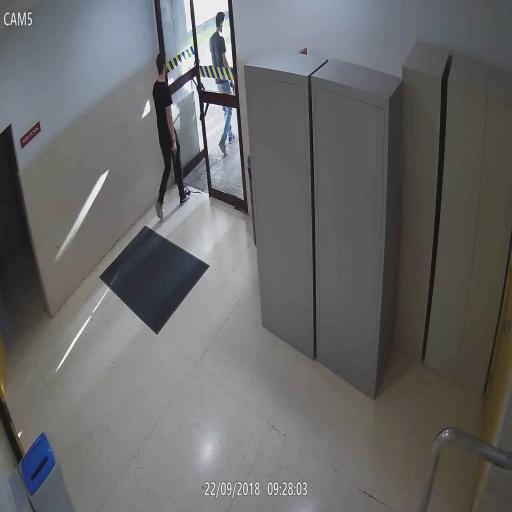Handgun: (171, 140, 179, 166), (228, 78, 236, 98)
